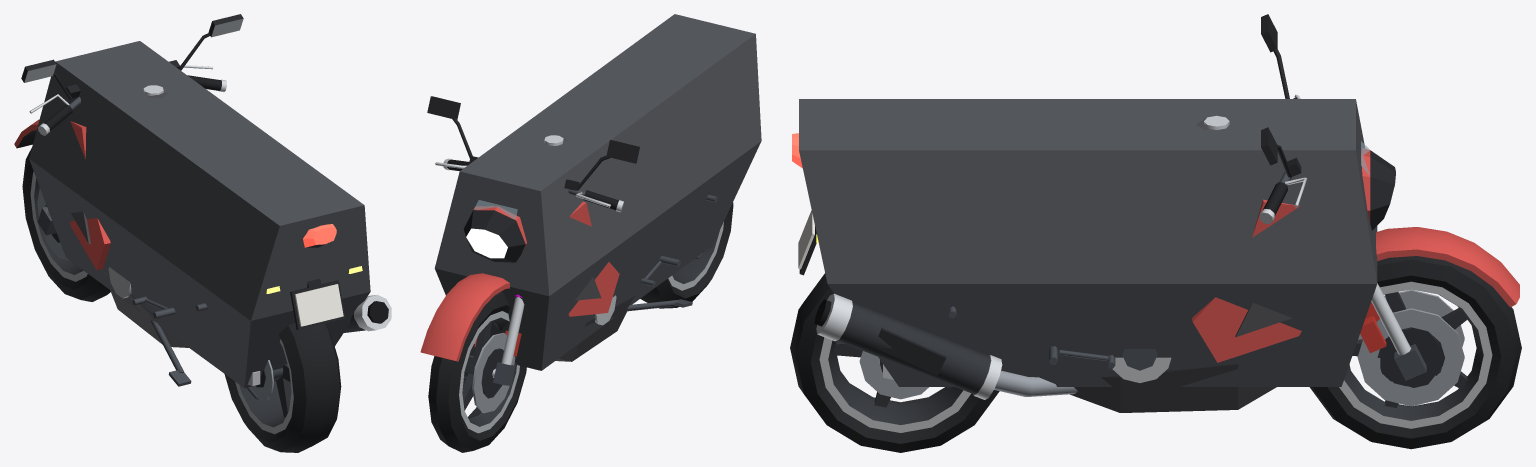
File: bike_sport.glb
3 views of the same model, side by side, from view 1: azimuth 30°, elevation 25°; view 2: azimuth 150°, elevation 25°; view 3: azimuth 270°, elevation 25° (orthographic). The views are drawn at different scales.
Visible parts, largest first — view 1: bike_sport__col_body, bike_sport__wheel_r, bike_sport__body, bike_sport__wheel_f, bike_sport__fork; view 2: bike_sport__col_body, bike_sport__fork, bike_sport__wheel_f, bike_sport__body, bike_sport__wheel_r; view 3: bike_sport__col_body, bike_sport__wheel_f, bike_sport__body, bike_sport__wheel_r, bike_sport__fork.
Part boxes in pixels (left/top/right/bottom): bike_sport__col_body: left=29, top=41, right=370, bottom=388; bike_sport__wheel_r: left=224, top=323, right=341, bottom=452; bike_sport__body: left=70, top=85, right=391, bottom=400; bike_sport__wheel_f: left=22, top=148, right=110, bottom=301; bike_sport__fork: left=14, top=14, right=243, bottom=235; bike_sport__col_body: left=434, top=14, right=761, bottom=370; bike_sport__fork: left=420, top=96, right=639, bottom=385; bike_sport__wheel_f: left=428, top=292, right=526, bottom=452; bike_sport__body: left=544, top=135, right=717, bottom=361; bike_sport__wheel_r: left=640, top=202, right=733, bottom=308; bike_sport__col_body: left=799, top=99, right=1377, bottom=386; bike_sport__wheel_f: left=1309, top=256, right=1521, bottom=449; bike_sport__body: left=792, top=115, right=1301, bottom=412; bike_sport__wheel_r: left=790, top=273, right=999, bottom=452; bike_sport__fork: left=1259, top=14, right=1519, bottom=380.
Size of what is drawn, in the model's own units: 0.865 by 1.14 by 2.05.
8 materials, 1 textured.
